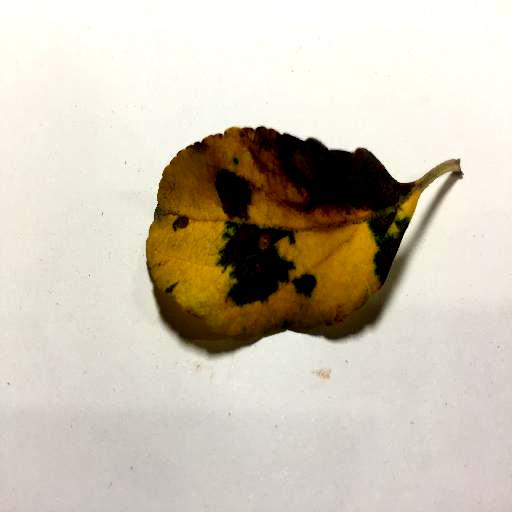Brown_Spot: (272, 146, 407, 199), (201, 231, 289, 302), (216, 172, 254, 214), (284, 272, 314, 295), (172, 214, 192, 230)
